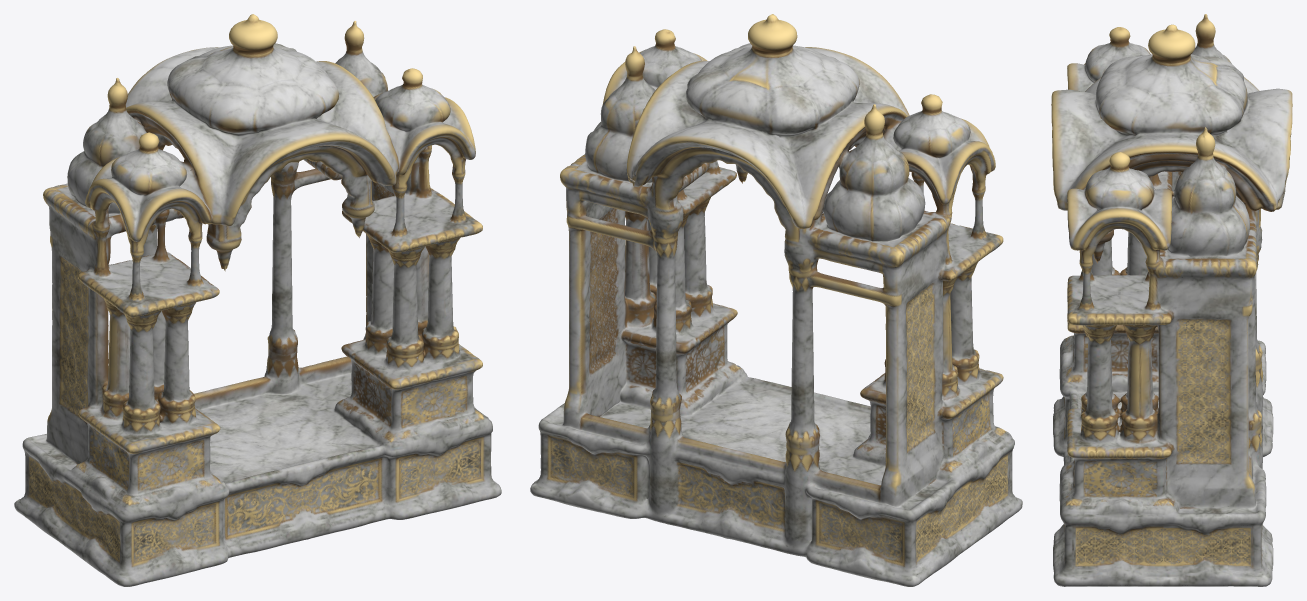
The picture shows the model from 3 angles, left to right: view 1: azimuth 30°, elevation 25°; view 2: azimuth 150°, elevation 25°; view 3: azimuth 270°, elevation 25°; orthographic projection. The views are drawn at different scales.
Visible parts, largest first — view 1: PM3D_Cupolo_LR_CupoloOPTDUE_0 (×2); view 2: PM3D_Cupolo_LR_CupoloOPTDUE_0 (×2); view 3: PM3D_Cupolo_LR_CupoloOPTDUE_0 (×2).
Part boxes in pixels (x1,y1,x2,y2): PM3D_Cupolo_LR_CupoloOPTDUE_0 (×2): (14, 14, 501, 586); PM3D_Cupolo_LR_CupoloOPTDUE_0 (×2): (530, 14, 1022, 586); PM3D_Cupolo_LR_CupoloOPTDUE_0 (×2): (1051, 14, 1292, 586).
Bounding box in the file's own units: 0.249 × 0.3004 × 0.1387.
Materials: 1 (1 with a texture image).
